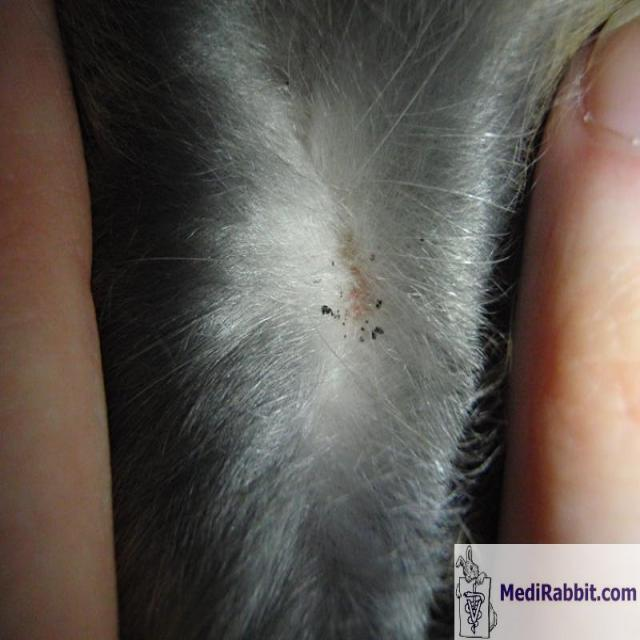di ung bo chet: (262, 183, 454, 412)
